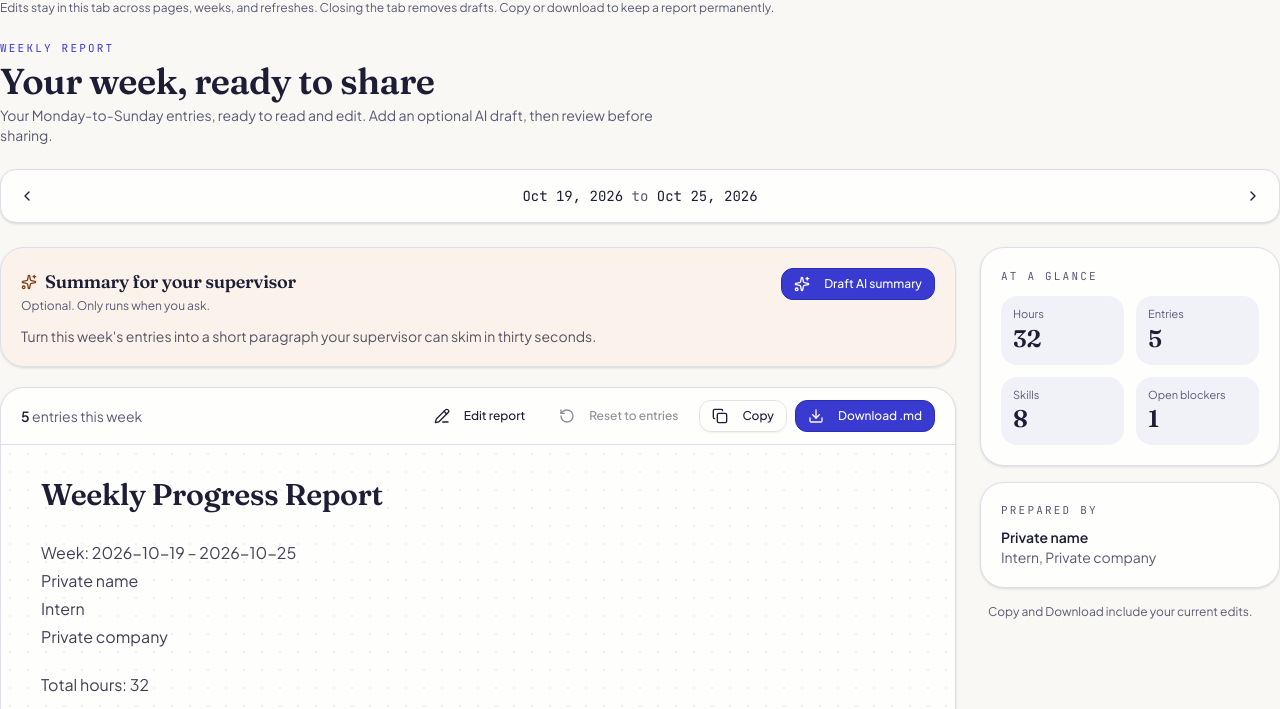
Scenario: removes a saved AI draft without deleting any entries
Click the button with test id "button-ai-summary" at (858, 284), box [781,268,935,300]
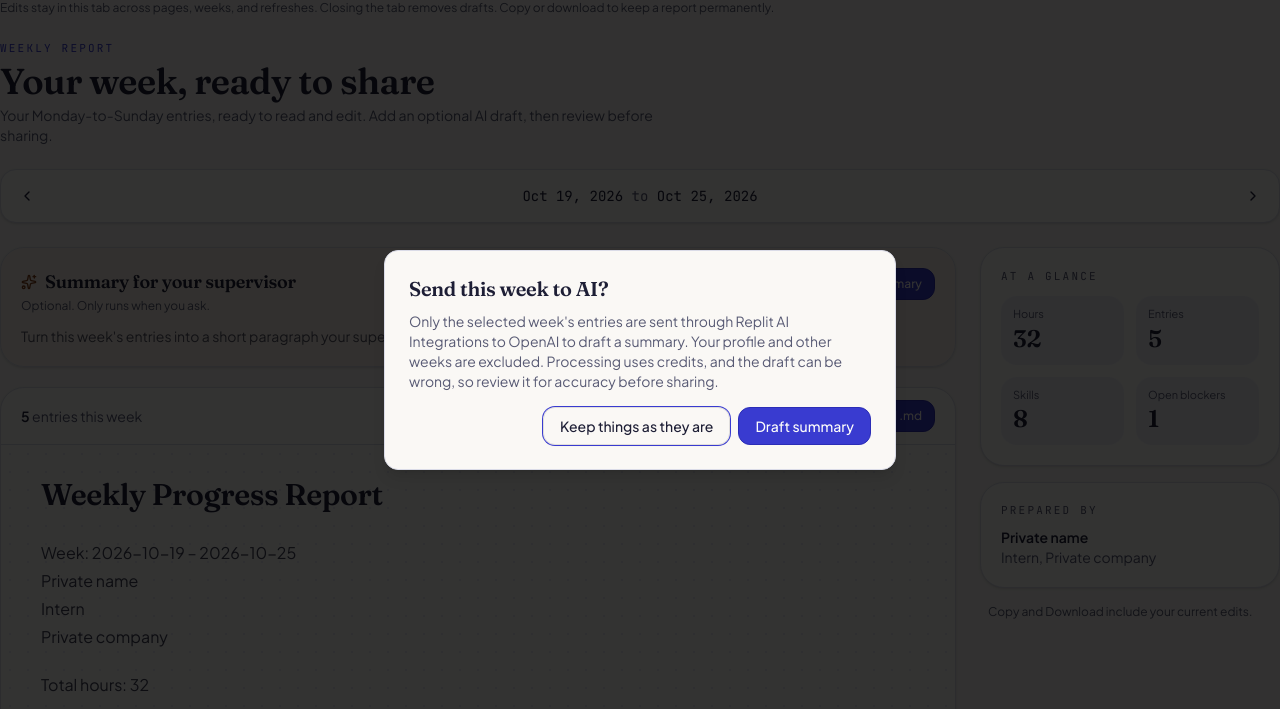
Click the button with test id "button-confirm-action" at (805, 426), box [738,407,871,445]
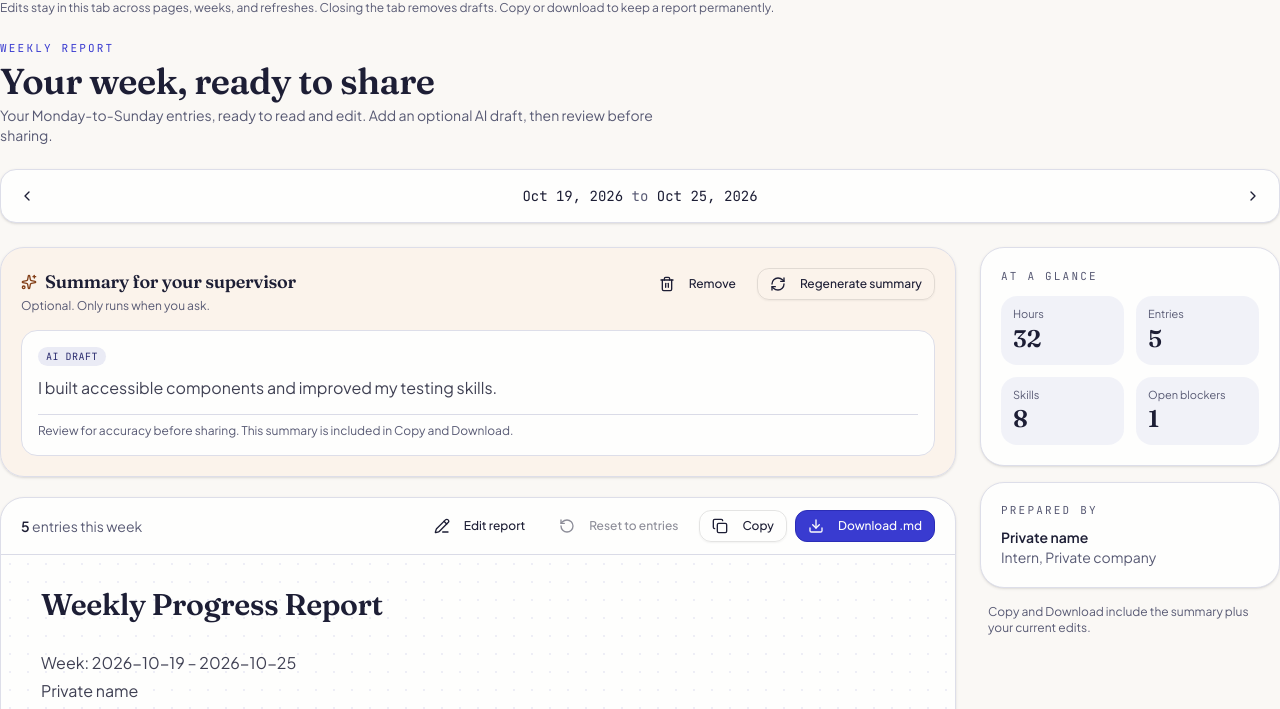
Expected: the element with test id "text-ai-summary" is shown, [21,330,935,456]
Click the button with test id "button-remove-summary" at (697, 284), box [646,268,749,300]
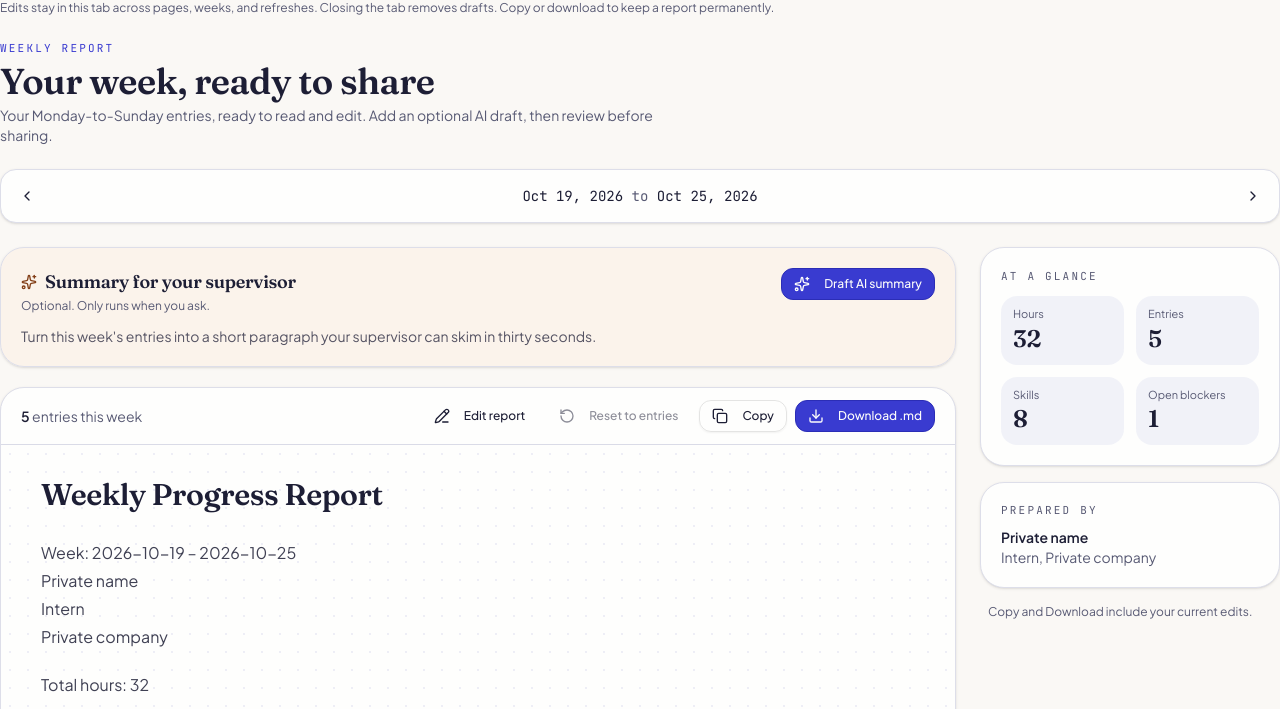
Expected: the element with test id "text-ai-summary" is gone
